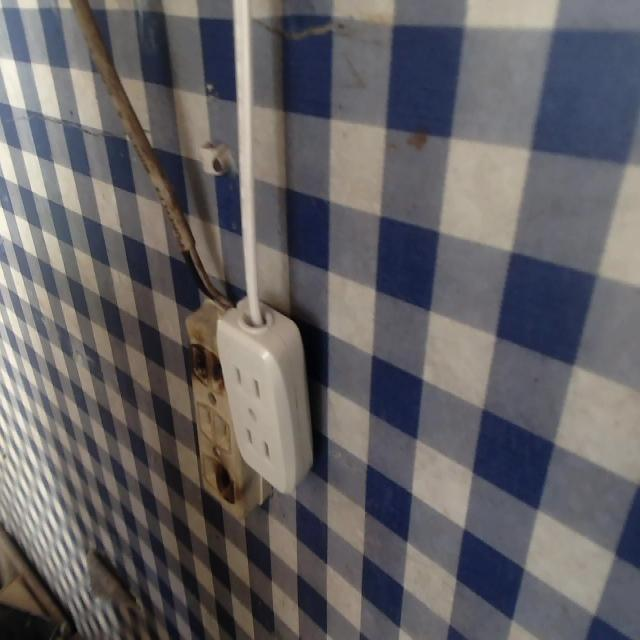-: (185, 337, 226, 395), (213, 459, 236, 501)
